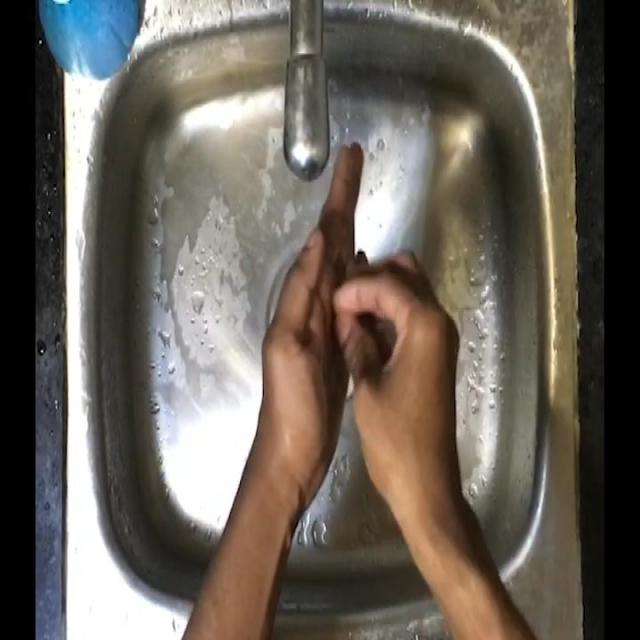step_6: (254, 124, 466, 506)
